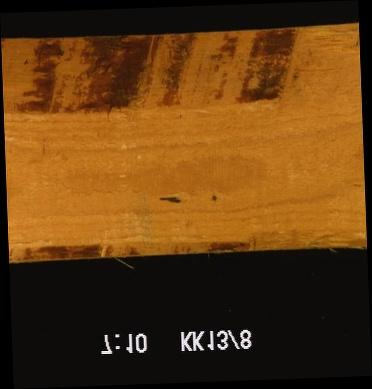small_knot: (207, 191, 219, 205)
wave: (2, 28, 360, 111), (10, 232, 266, 258)
